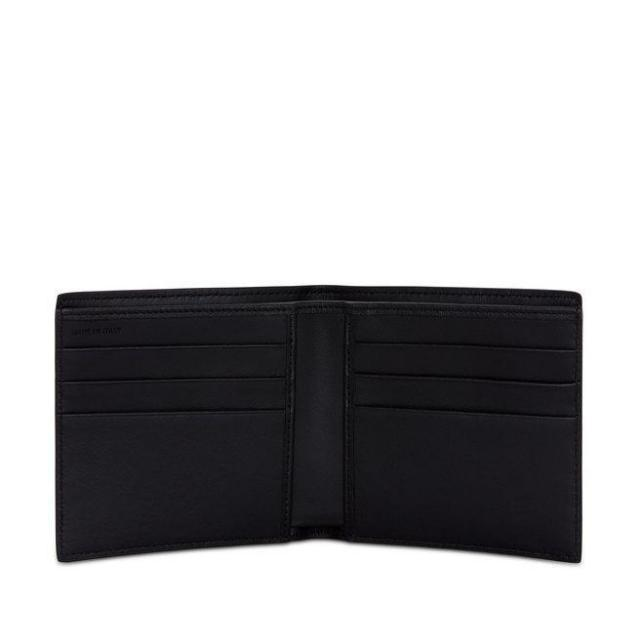wallet: (47, 278, 589, 572)
